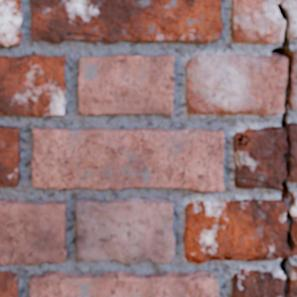brick: (32, 127, 223, 191), (31, 0, 222, 42), (76, 199, 173, 263), (79, 54, 173, 114), (30, 272, 217, 296), (0, 199, 66, 264), (0, 55, 65, 115), (0, 126, 20, 186), (0, 0, 21, 45), (0, 271, 17, 296)
broken_brick: (184, 198, 287, 264), (186, 53, 286, 115), (233, 126, 285, 191), (232, 0, 283, 43), (230, 268, 283, 296), (287, 122, 296, 182), (283, 0, 296, 38), (292, 49, 296, 109), (290, 223, 296, 258), (290, 265, 296, 296), (292, 191, 296, 218)
crack: (270, 0, 296, 296), (235, 159, 270, 187), (64, 32, 111, 42), (234, 289, 236, 296)
